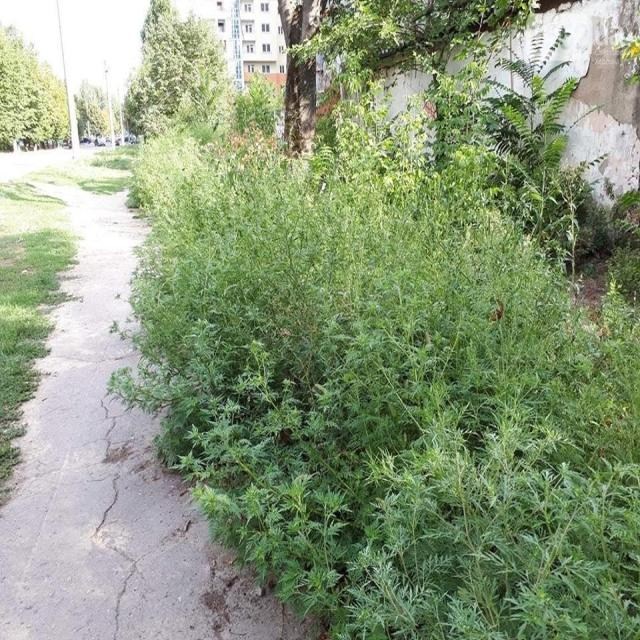ambrosia: (154, 147, 630, 630), (287, 198, 516, 584), (123, 62, 287, 239)
